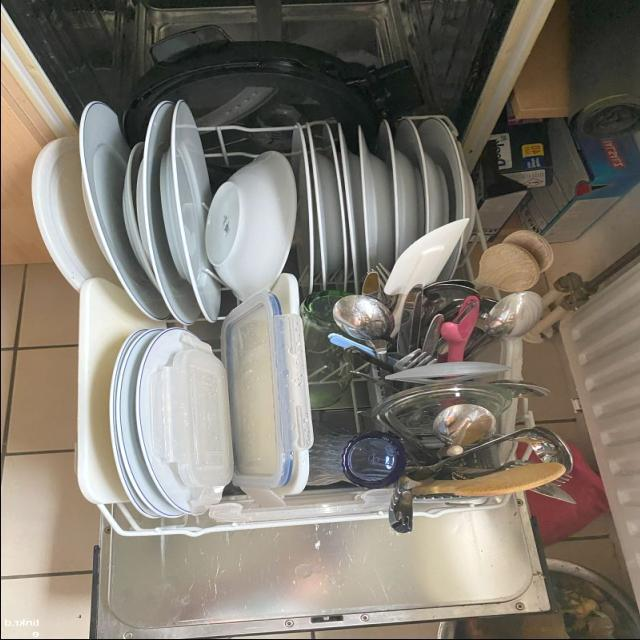clutery_bin: (349, 246, 538, 522)
